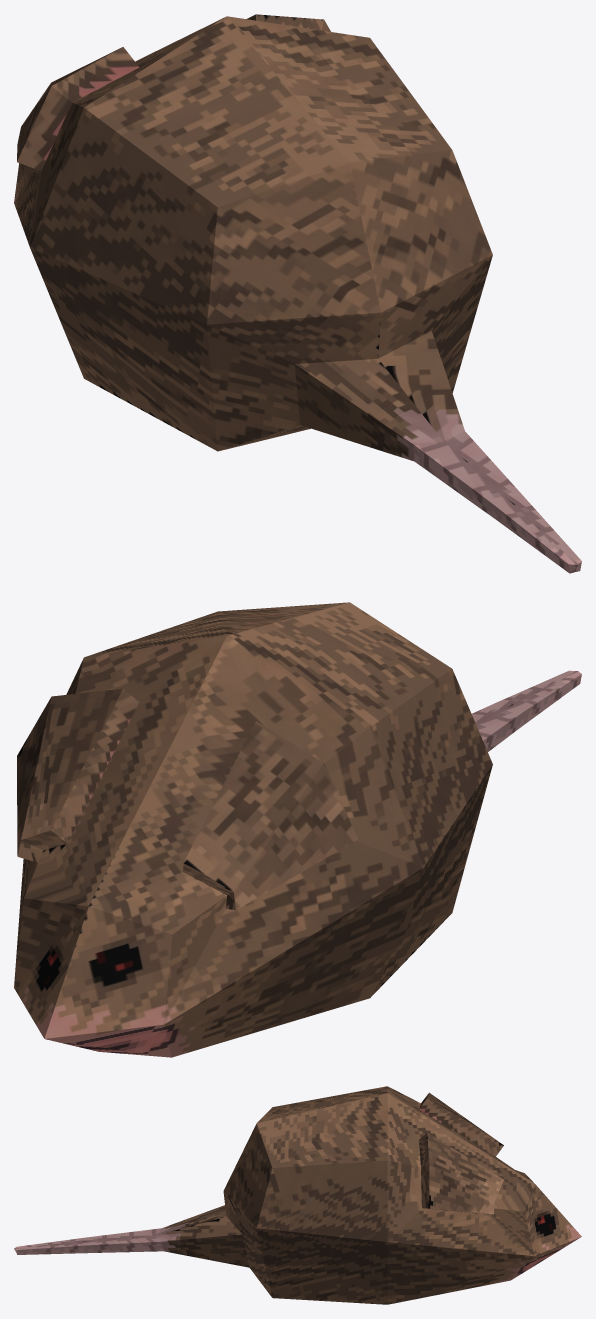
The model's file is Rata.fbx.
3 views of the same model, one above another, from view 1: azimuth 30°, elevation 25°; view 2: azimuth 150°, elevation 25°; view 3: azimuth 270°, elevation 25° (orthographic). The views are drawn at different scales.
Parts seen in each view (by area): view 1: Rata; view 2: Rata; view 3: Rata.
Boxes of the visible parts, x1,y1,x2,y2 form: Rata: (14,14,581,573); Rata: (14,602,581,1057); Rata: (14,1086,581,1304).
Size of the model in its own units: 168 by 133 by 394.
1 material, 1 textured.
